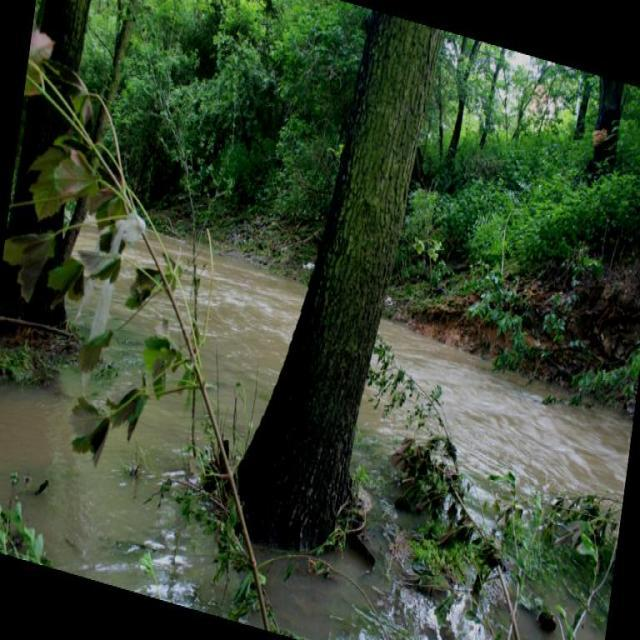flood: (38, 199, 639, 639)
